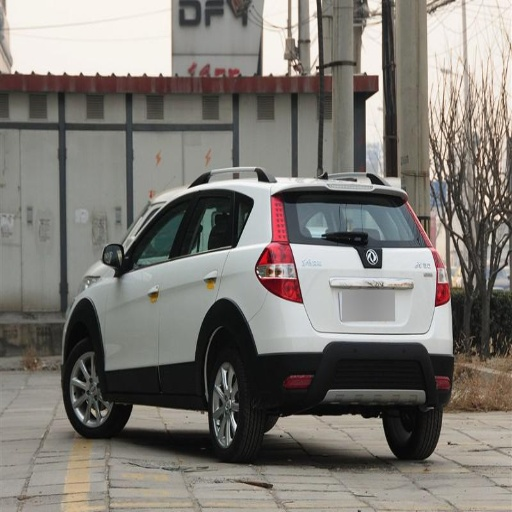back_bumper: (244, 287, 451, 406)
back_glass: (284, 189, 422, 244)
back_left_door: (159, 192, 229, 390)
tailgate: (284, 204, 433, 327)
